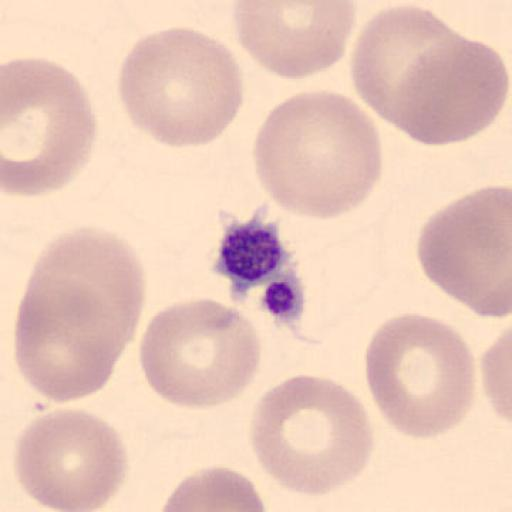Platelet: (208, 215, 301, 298)
RBC: (363, 6, 500, 142), (252, 88, 384, 222), (20, 224, 146, 354), (250, 372, 376, 498), (118, 24, 246, 148), (363, 311, 478, 441), (349, 4, 465, 124), (139, 298, 262, 409), (0, 56, 97, 196), (14, 276, 120, 404), (415, 184, 512, 321), (391, 35, 509, 146), (12, 406, 130, 512), (230, 1, 357, 81), (156, 464, 268, 512), (479, 325, 512, 424)
